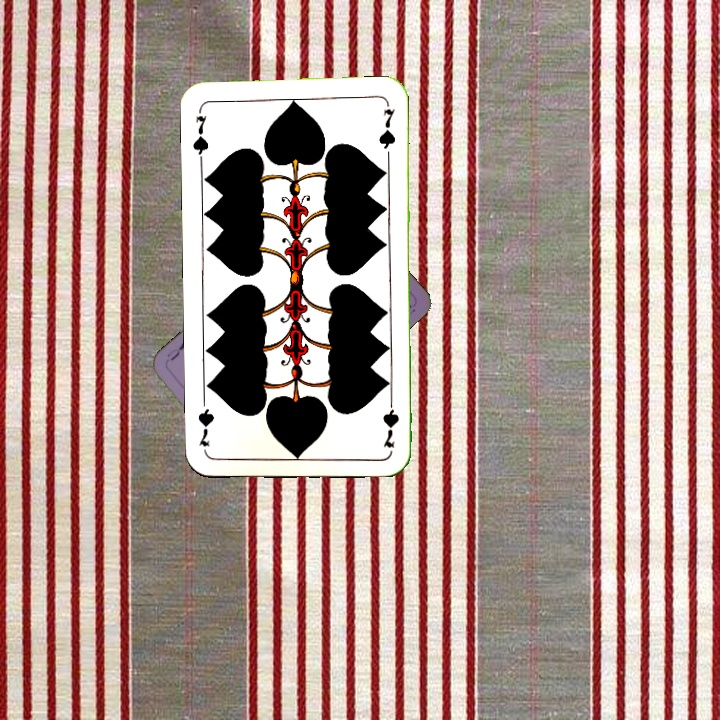G7: (188, 104, 212, 163), (379, 391, 402, 450)
